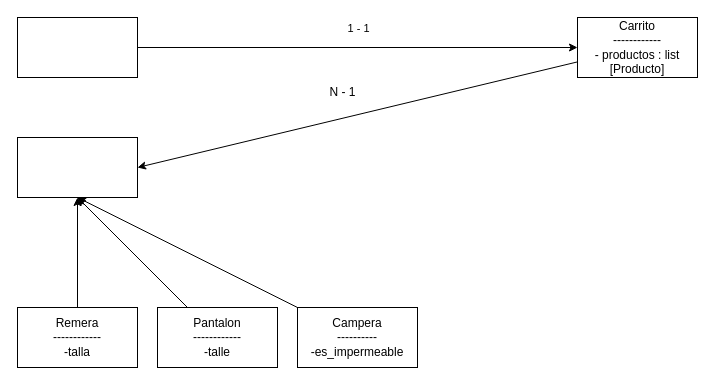
This 715x385 diagram has some shape labels left out. Here are the shapes that lost their labels. From the top down, the box of each, then its label:
(16, 16, 138, 78): Cliente ------------ -nombre -carrito : carrito
(16, 136, 138, 198): Producto ------------ - nombre - precio
